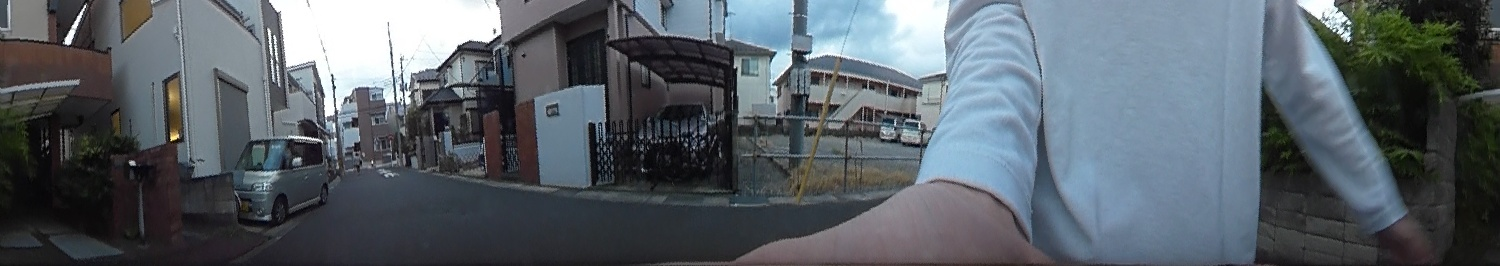difficult_person: (349, 147, 364, 174)
